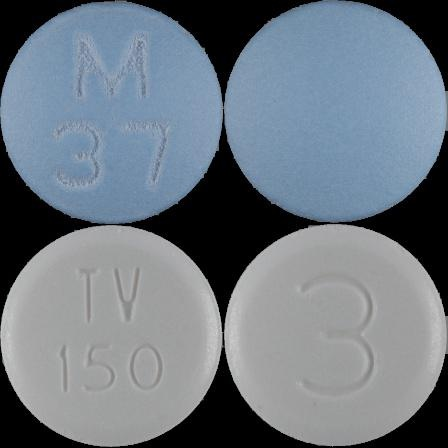51079-147: (0, 0, 224, 224)
